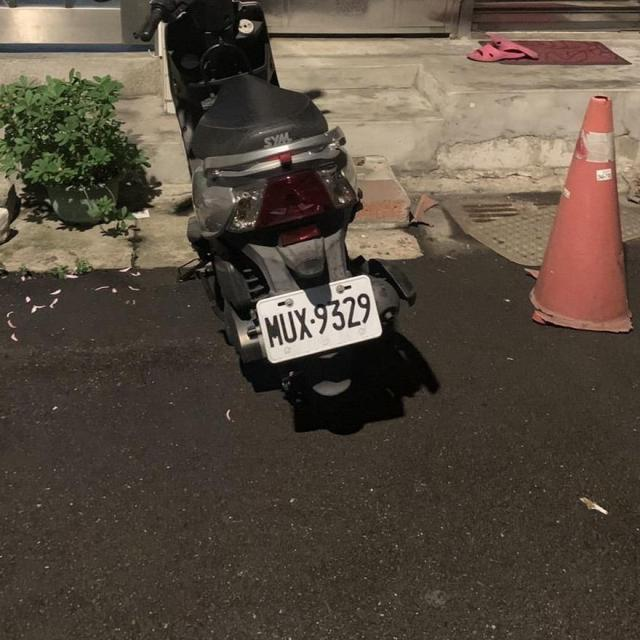W: (249, 265, 392, 371)
